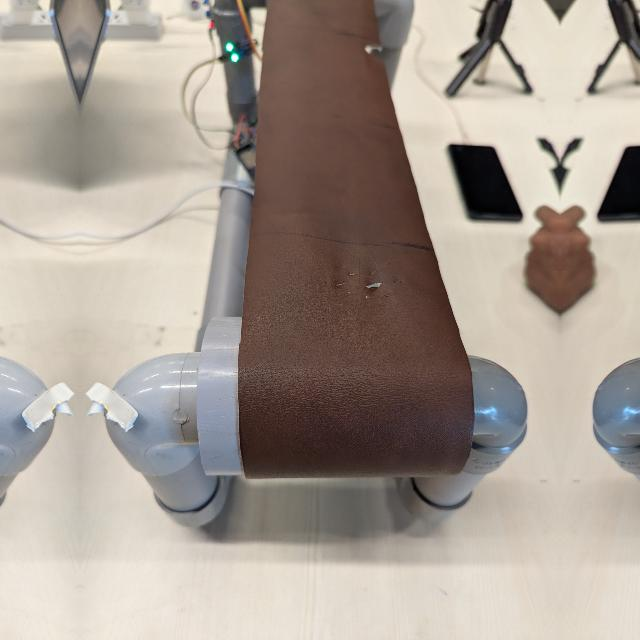belt_crack: (316, 248, 428, 335)
edge_damage: (352, 37, 389, 73)
